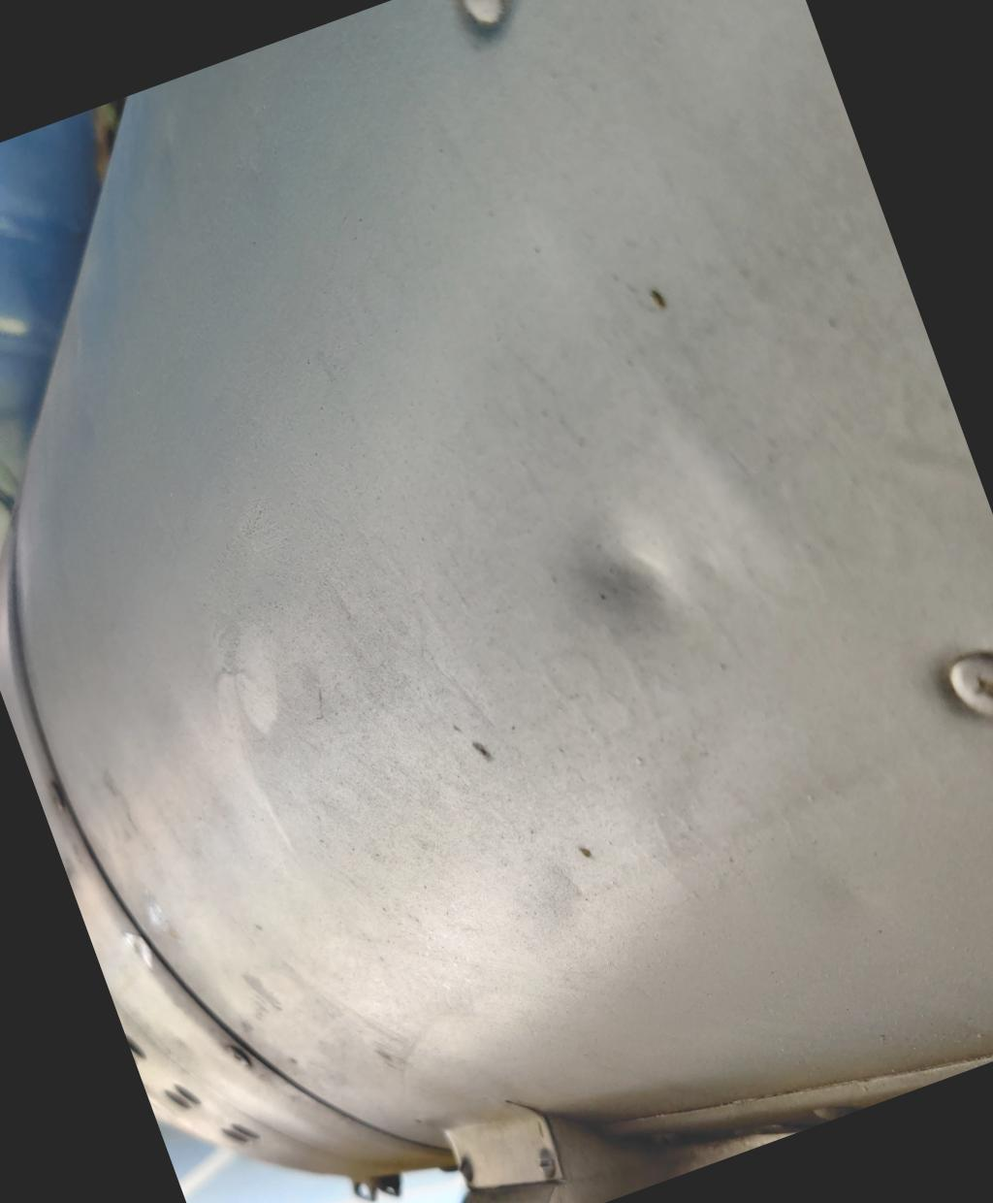dent: (477, 430, 762, 733)
